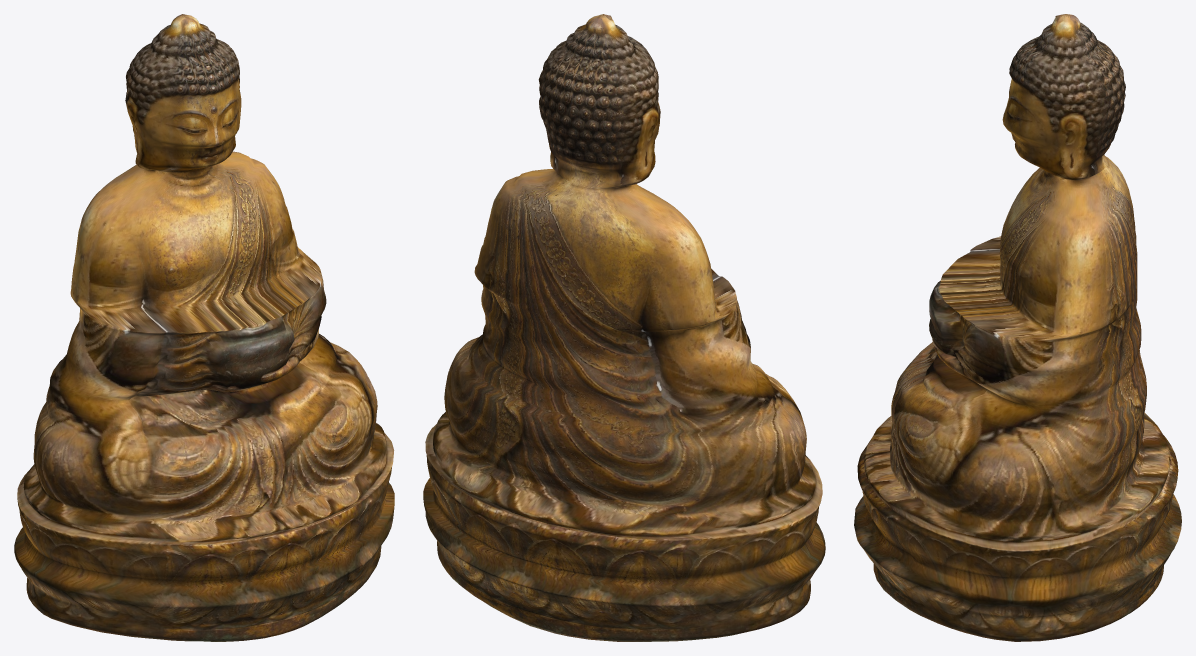
File: medicine.glb
3 renders of one model, left to right at view 1: azimuth 30°, elevation 25°; view 2: azimuth 150°, elevation 25°; view 3: azimuth 270°, elevation 25°, orthographic. The views are drawn at different scales.
Visible parts, largest first — view 1: medicine; view 2: medicine; view 3: medicine.
Part boxes in pixels (x1=…): medicine: x1=14, y1=14, x2=394, y2=641; medicine: x1=423, y1=14, x2=825, y2=641; medicine: x1=854, y1=14, x2=1181, y2=641.
Bounding box in the file's own units: 0.6745 × 1 × 0.5301.
1 material, 1 textured.
